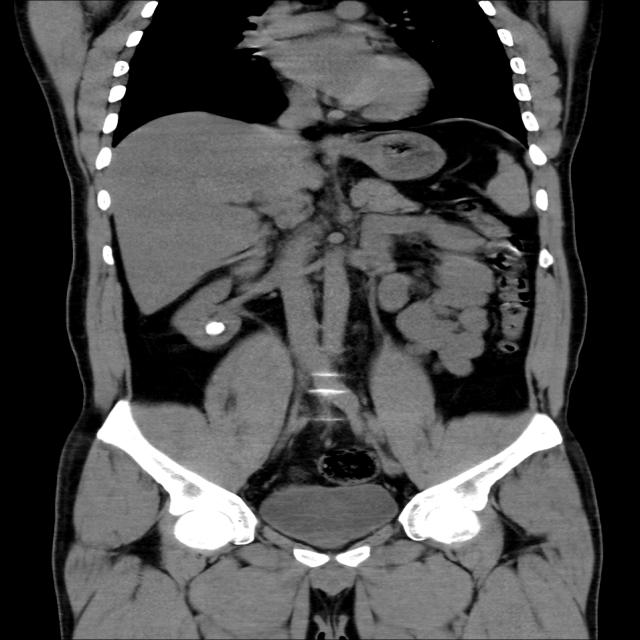kidneystone: (204, 321, 226, 336)
